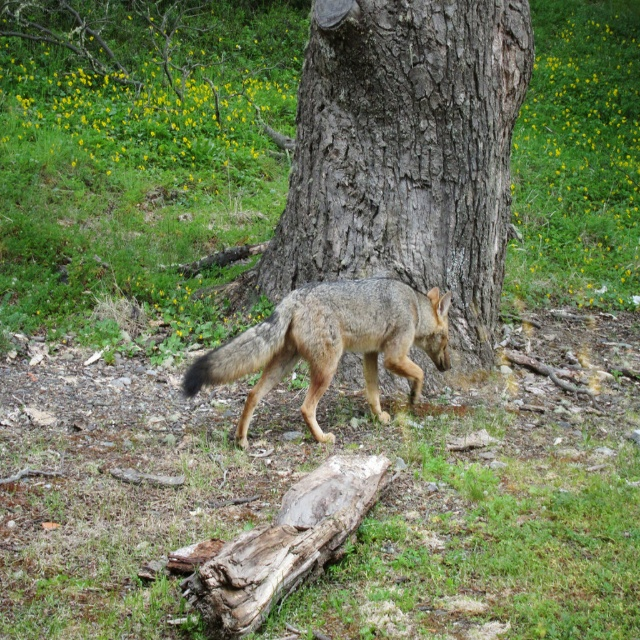Fox: (178, 282, 454, 449)
